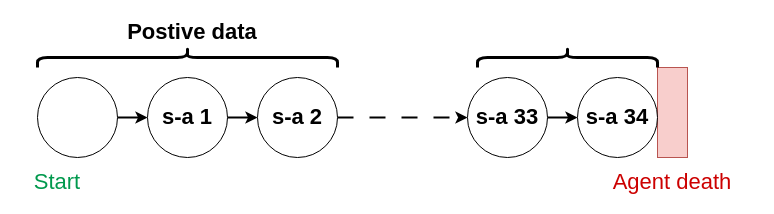
The diagram is 774 pixels wide and 214 high, and some of its shapes have lost their labels. Here are the shapes that lost their labels. From the top down, the box of each, then its label:
(476, 46, 658, 68): Negative data
(36, 76, 118, 158): s-a 0
